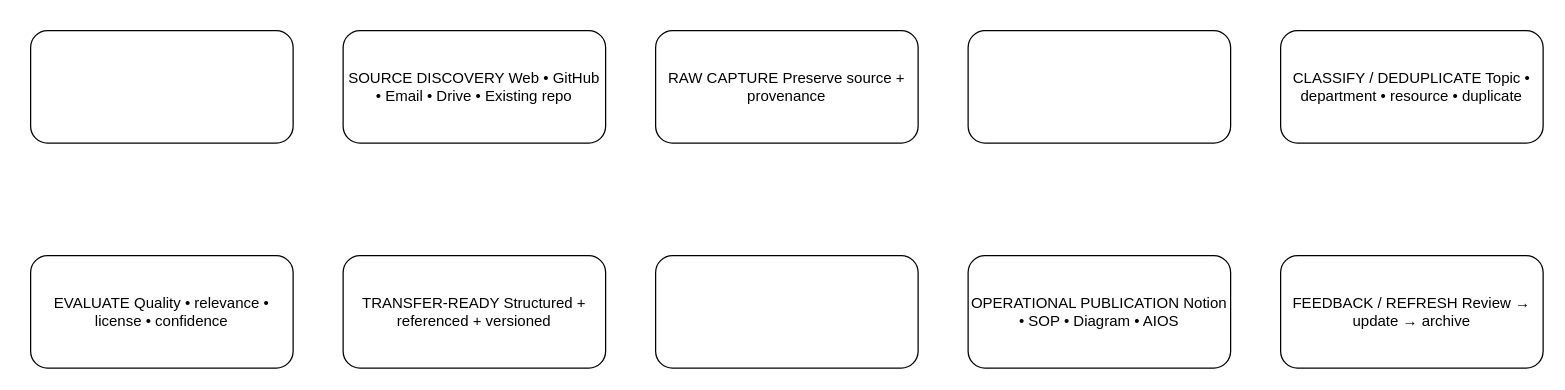
This 1565x390 diagram has some shape labels left out. The shapes that lost their labels are listed below. From the top down, each one's centre as x and y in pixels, then its label:
At pixel 161 86: "RESEARCH QUESTION What must be discovered?".
At pixel 1099 86: "INGEST / NORMALIZE Extract text + metadata".
At pixel 786 311: "CANONICAL REPOSITORY Approved knowledge / implementation source".
